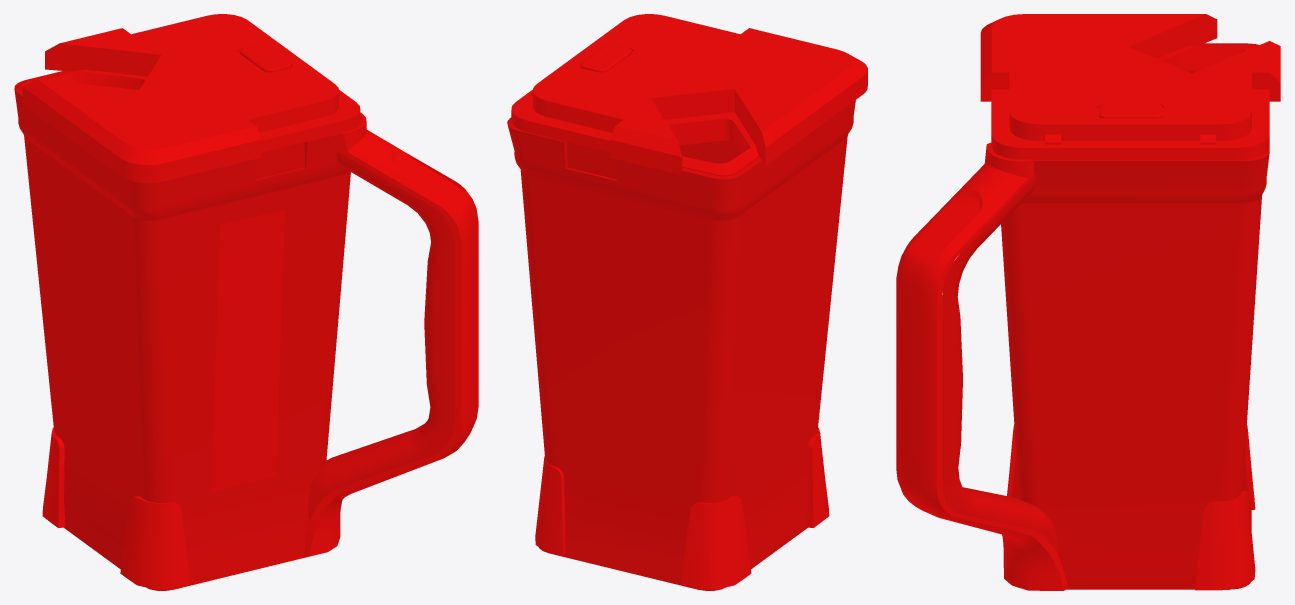
Rendered from SM_blender_01_body.glb.
3 renders of one model, left to right at view 1: azimuth 30°, elevation 25°; view 2: azimuth 150°, elevation 25°; view 3: azimuth 270°, elevation 25°, orthographic. The views are drawn at different scales.
Parts seen in each view (by area): view 1: SM_blender_01_body_LOD0; view 2: SM_blender_01_body_LOD0; view 3: SM_blender_01_body_LOD0.
Part boxes in pixels (x1=…): SM_blender_01_body_LOD0: x1=14, y1=14, x2=478, y2=590; SM_blender_01_body_LOD0: x1=507, y1=14, x2=867, y2=590; SM_blender_01_body_LOD0: x1=896, y1=14, x2=1280, y2=590.
Size of what is drawn, in the model's own units: 0.1912 by 0.2601 by 0.1919.
